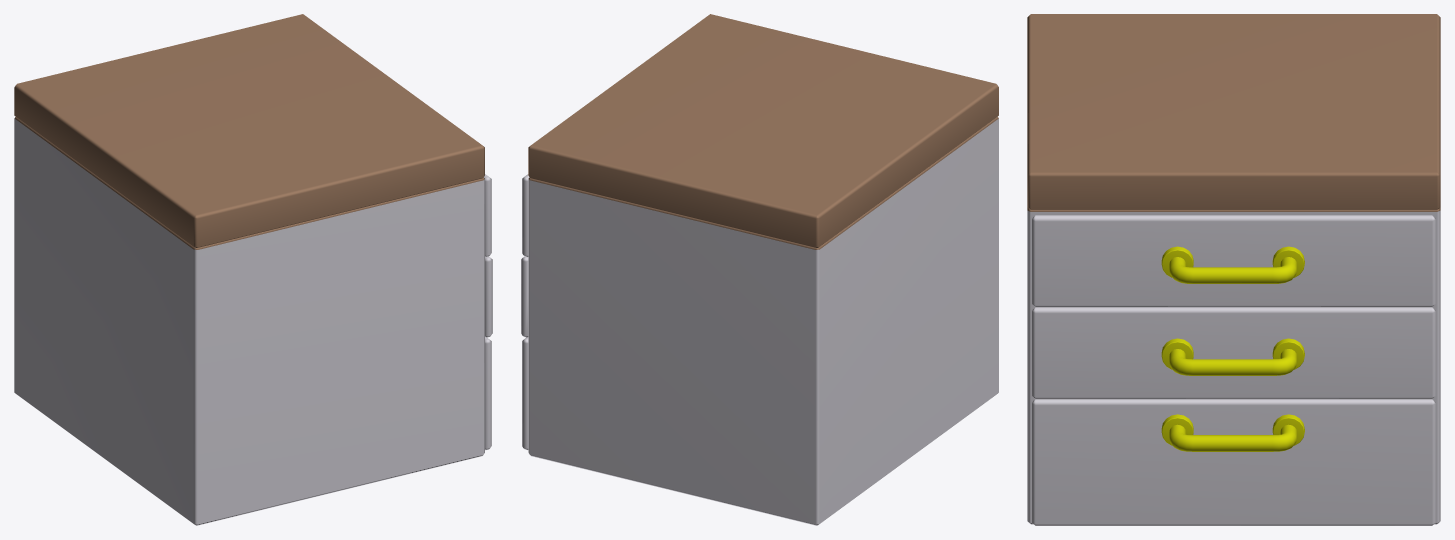
File: KitchenDrawer.fbx
3 views of the same model, side by side, from view 1: azimuth 30°, elevation 25°; view 2: azimuth 150°, elevation 25°; view 3: azimuth 270°, elevation 25° (orthographic). The views are drawn at different scales.
Visible parts, largest first — view 1: endCabitnetKitchen, endCabitnetKitchen.001; view 2: endCabitnetKitchen, endCabitnetKitchen.001; view 3: endCabitnetKitchen, endCabitnetKitchen.001.
Boxes of the visible parts, <box> form: endCabitnetKitchen: <box>14,14,491,525</box>; endCabitnetKitchen.001: <box>485,256,492,337</box>; endCabitnetKitchen: <box>522,14,998,525</box>; endCabitnetKitchen.001: <box>521,256,528,337</box>; endCabitnetKitchen: <box>1027,14,1440,525</box>; endCabitnetKitchen.001: <box>1032,307,1435,399</box>.
Size of the model in its own units: 104 by 93.05 by 98.81.
